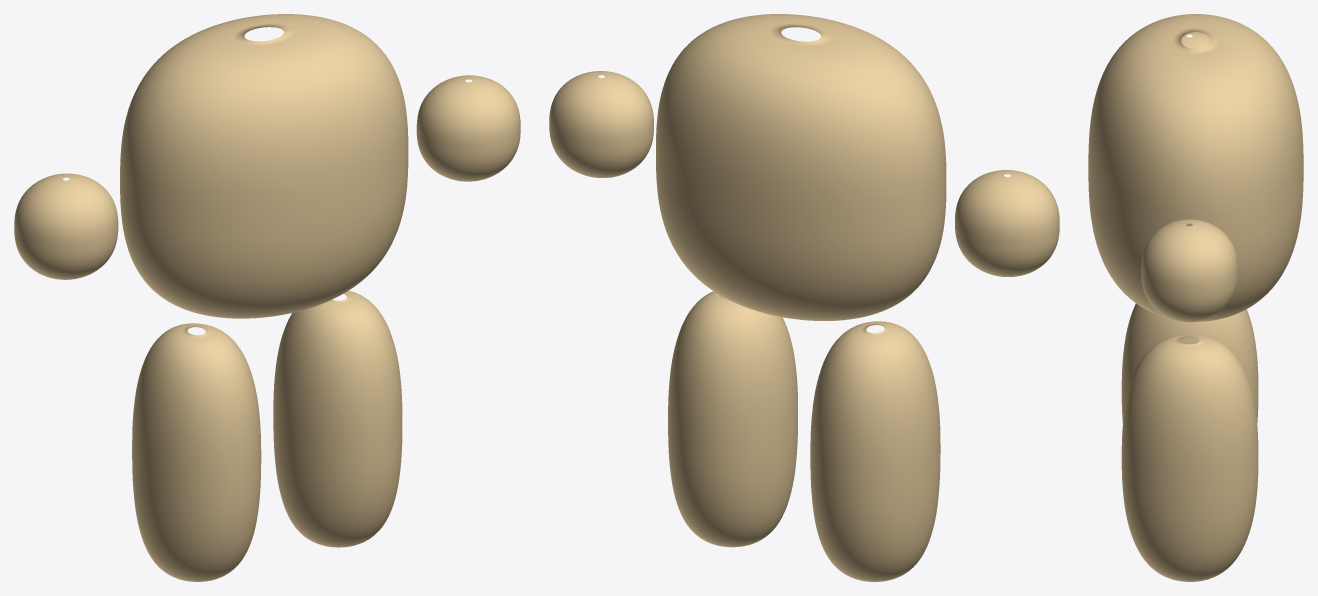
File: body-Masculine-compact.glb
The picture shows the model from 3 angles, left to right: view 1: azimuth 30°, elevation 25°; view 2: azimuth 150°, elevation 25°; view 3: azimuth 270°, elevation 25°; orthographic projection. The views are drawn at different scales.
Visible parts, largest first — view 1: Skin / compact torso, Skin / leg -1, Skin / leg 1, Skin / hand 1, Skin / hand -1; view 2: Skin / compact torso, Skin / leg -1, Skin / leg 1, Skin / hand -1, Skin / hand 1; view 3: Skin / compact torso, Skin / leg 1, Skin / hand 1, Skin / leg -1, Skin / hand -1.
Part boxes in pixels (box(x1,y1,x2,y2)): Skin / compact torso: box(120, 14, 408, 318); Skin / leg -1: box(132, 323, 261, 581); Skin / leg 1: box(273, 290, 402, 547); Skin / hand 1: box(416, 75, 520, 181); Skin / hand -1: box(14, 173, 118, 279); Skin / compact torso: box(656, 14, 946, 320); Skin / leg -1: box(810, 321, 940, 581); Skin / leg 1: box(668, 291, 797, 547); Skin / hand -1: box(955, 170, 1059, 276); Skin / hand 1: box(549, 71, 653, 177); Skin / compact torso: box(1088, 14, 1303, 321); Skin / leg 1: box(1121, 334, 1258, 581); Skin / hand 1: box(1141, 219, 1238, 322); Skin / leg -1: box(1121, 303, 1258, 423); Skin / hand -1: box(1181, 32, 1210, 49).
Size of the model in its own units: 1.3 by 1.31 by 0.51.
